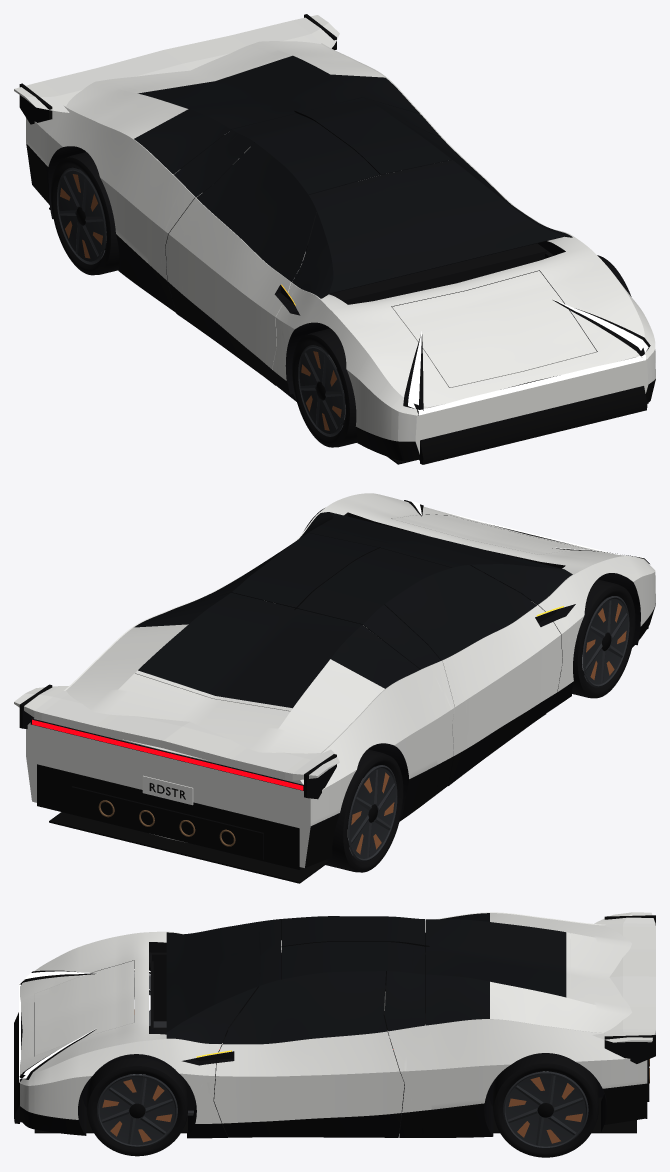
The model's file is roadster.glb.
The picture shows the model from 3 angles, top to bottom: view 1: azimuth 30°, elevation 25°; view 2: azimuth 150°, elevation 25°; view 3: azimuth 270°, elevation 25°; orthographic projection. The views are drawn at different scales.
Visible parts, largest first — view 1: BodyPanelsColor1, BodyWindshield, BodyRearwindow, BodyHoodPanel, BodyDoorRColor1Skin, BodyDoorRColor1Glass, BodyRoofPanelR, BodyWing, BodyRoofPanelL, Chin, Dash, WheelFrontRTyre (+10 smaller); view 2: BodyPanelsColor1, BodyRearwindow, BodyDoorRColor1Skin, BodyWing, BodyDoorRColor1Glass, BodyRoofPanelR, BodyWindshield, RearValance, BodyDeck, BodyRoofPanelL, RearDiffuser, Underbody (+13 smaller); view 3: BodyPanelsColor1, BodyRearwindow, BodyDoorLColor1Skin, BodyWindshield, BodyDoorLColor1Glass, BodyRoofPanelL, BodyHoodPanel, BodyWing, WheelRearLTyre, BodyRoofPanelR, WheelFrontLTyre, WheelRearLFace (+12 smaller).
Boxes of the visible parts, x1,y1,x2,y2 form: BodyPanelsColor1: [26, 43, 655, 460]; BodyWindshield: [292, 160, 572, 298]; BodyRearwindow: [66, 41, 451, 268]; BodyHoodPanel: [392, 271, 596, 387]; BodyDoorRColor1Skin: [165, 198, 291, 385]; BodyDoorRColor1Glass: [196, 142, 316, 281]; BodyRoofPanelR: [174, 113, 379, 196]; BodyWing: [14, 15, 339, 112]; BodyRoofPanelL: [300, 97, 451, 174]; Chin: [420, 386, 647, 464]; Dash: [329, 243, 546, 306]; WheelFrontRTyre: [292, 328, 357, 447]; BodyPanelsColor1: [26, 493, 655, 867]; BodyRearwindow: [66, 567, 527, 753]; BodyDoorRColor1Skin: [442, 605, 562, 785]; BodyWing: [14, 686, 339, 780]; BodyDoorRColor1Glass: [384, 565, 536, 660]; BodyRoofPanelR: [297, 548, 451, 669]; BodyWindshield: [298, 512, 572, 604]; RearValance: [37, 764, 300, 869]; BodyDeck: [107, 673, 290, 748]; BodyRoofPanelL: [174, 533, 378, 608]; RearDiffuser: [71, 786, 263, 859]; Underbody: [49, 627, 648, 883]; BodyPanelsColor1: [20, 912, 647, 1138]; BodyRearwindow: [425, 913, 631, 1032]; BodyDoorLColor1Skin: [214, 1031, 404, 1137]; BodyWindshield: [166, 919, 280, 1043]; BodyDoorLColor1Glass: [223, 971, 387, 1044]; BodyRoofPanelL: [281, 942, 424, 1031]; BodyHoodPanel: [34, 960, 134, 1055]; BodyWing: [592, 912, 655, 1042]; WheelRearLTyre: [493, 1054, 598, 1157]; BodyRoofPanelR: [281, 916, 424, 946]; WheelFrontLTyre: [86, 1058, 187, 1156]; WheelRearLFace: [505, 1074, 585, 1146].
Size of the model in its own units: 2.06 by 1.17 by 4.37.
